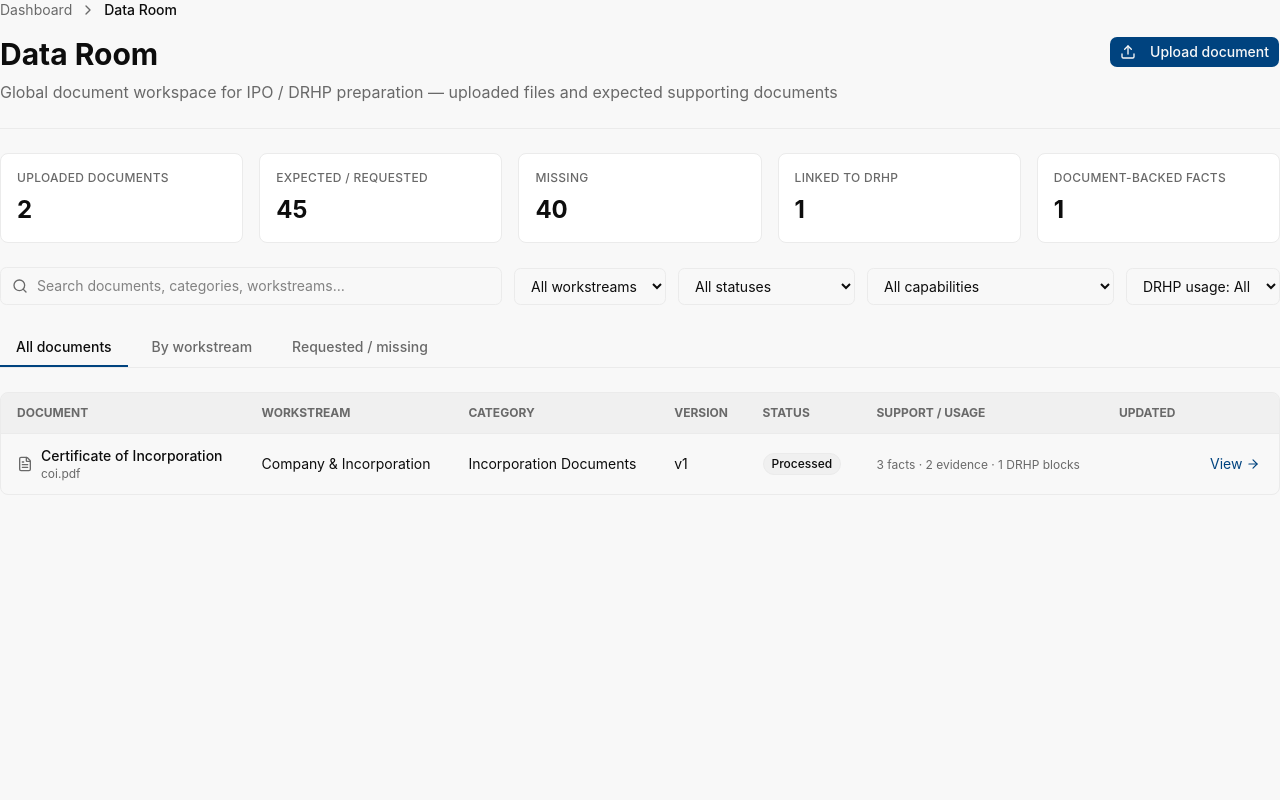
Test: DataRoomWorkspace › opens document detail drawer
Check: the text "Certificate of Incorporation" is shown, box x1=41 y1=446 x2=222 y2=466
Step 1. Click the button "View" → {"x": 1235, "y": 464}, box x1=1210 y1=454 x2=1260 y2=474
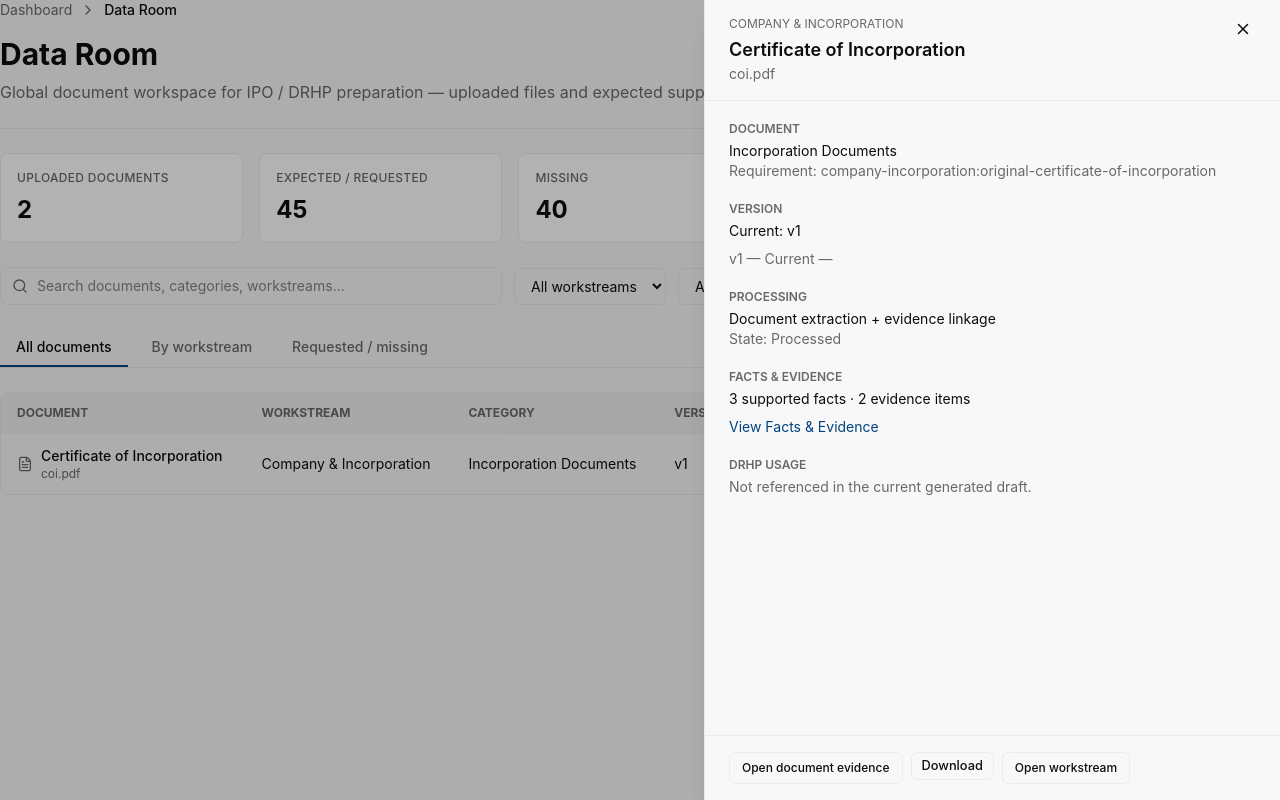
Check: the text "Document extraction + evidence linkage" is shown, box x1=729 y1=310 x2=996 y2=327
